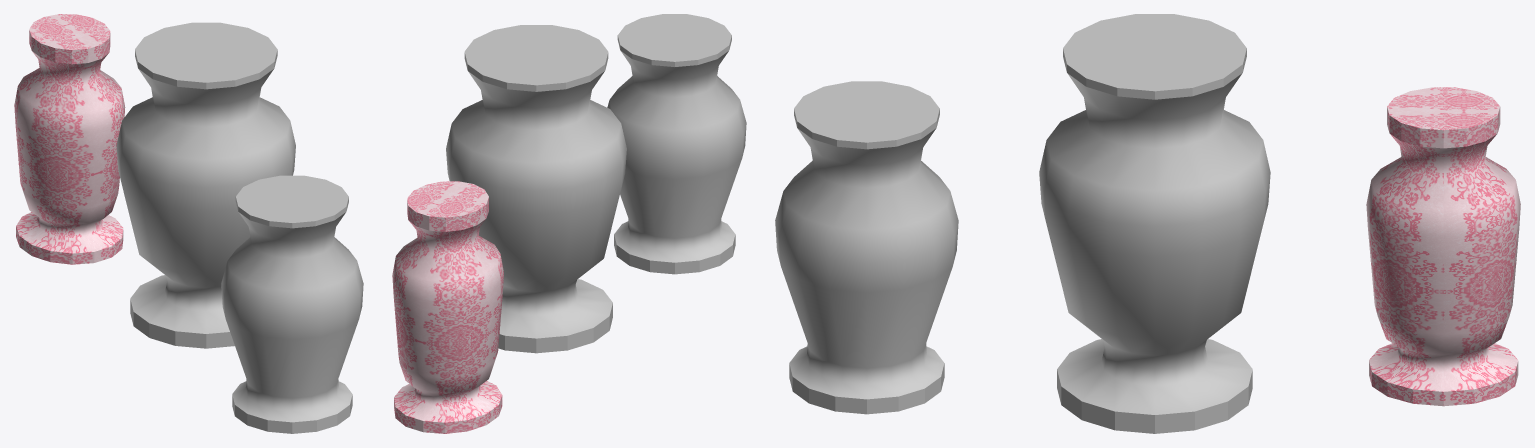
The model's file is Vases.fbx.
The picture shows the model from 3 angles, left to right: view 1: azimuth 30°, elevation 25°; view 2: azimuth 150°, elevation 25°; view 3: azimuth 270°, elevation 25°; orthographic projection. The views are drawn at different scales.
Parts seen in each view (by area): view 1: Object002, Cylinder004, Object003; view 2: Object002, Cylinder004, Object003; view 3: Object002, Cylinder004, Object003.
Part boxes in pixels (bbox=[...]): Object002: bbox=[116, 22, 295, 348]; Cylinder004: bbox=[221, 175, 363, 433]; Object003: bbox=[14, 14, 125, 264]; Object002: bbox=[446, 25, 626, 353]; Cylinder004: bbox=[607, 14, 746, 274]; Object003: bbox=[392, 181, 503, 433]; Object002: bbox=[1039, 14, 1270, 433]; Cylinder004: bbox=[775, 81, 958, 414]; Object003: bbox=[1366, 87, 1520, 406].
Size of the model in its own units: 6.58 by 10.24 by 20.04.
